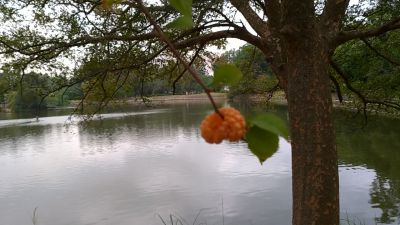eggs: (200, 106, 247, 143)
